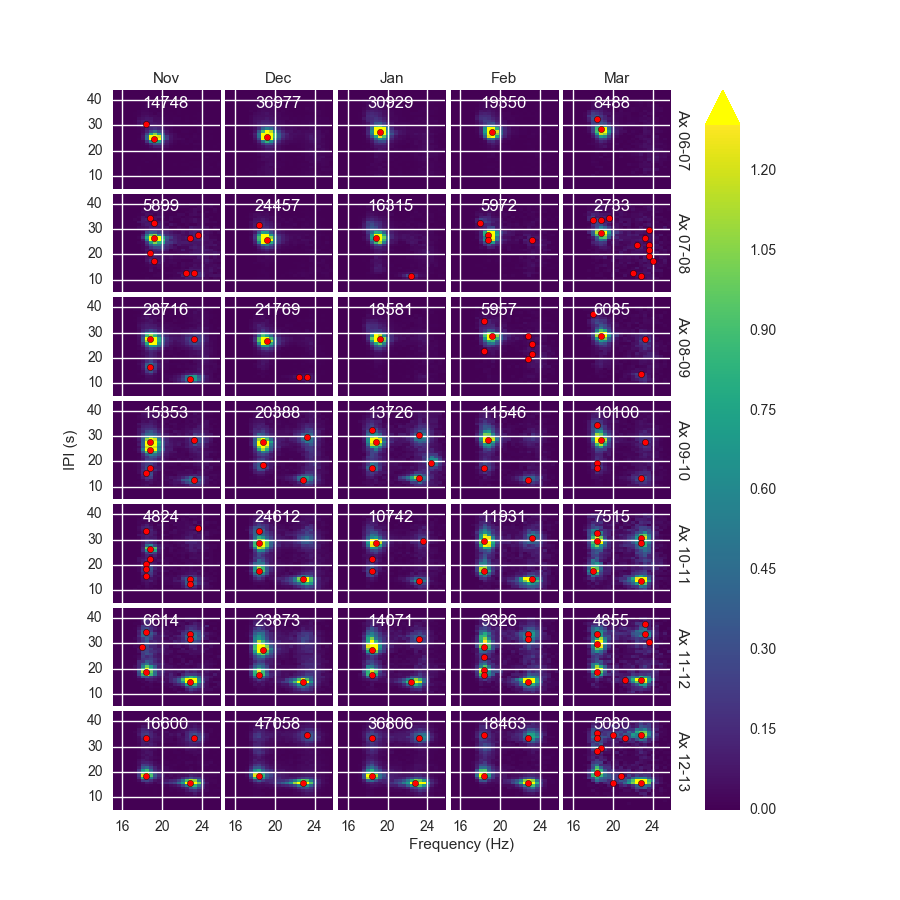

The dashboard page shown, as its layout file describes it:
{"tool":"tableau","page":{"name":"2d histo All Axial","canvas":[1000,800],"ordinal":0},"visuals":[{"type":"text","box":[706,25,284,298]}]}

Visuals, with their boxes on the page's 1000x800 design canvas (x1, y1, x2, y2). These are canvas units, not pixel positions in the 900x900 screenshot, which may show the page scaled, cropped or inside an application window:
text: detection(706, 25, 990, 323)
